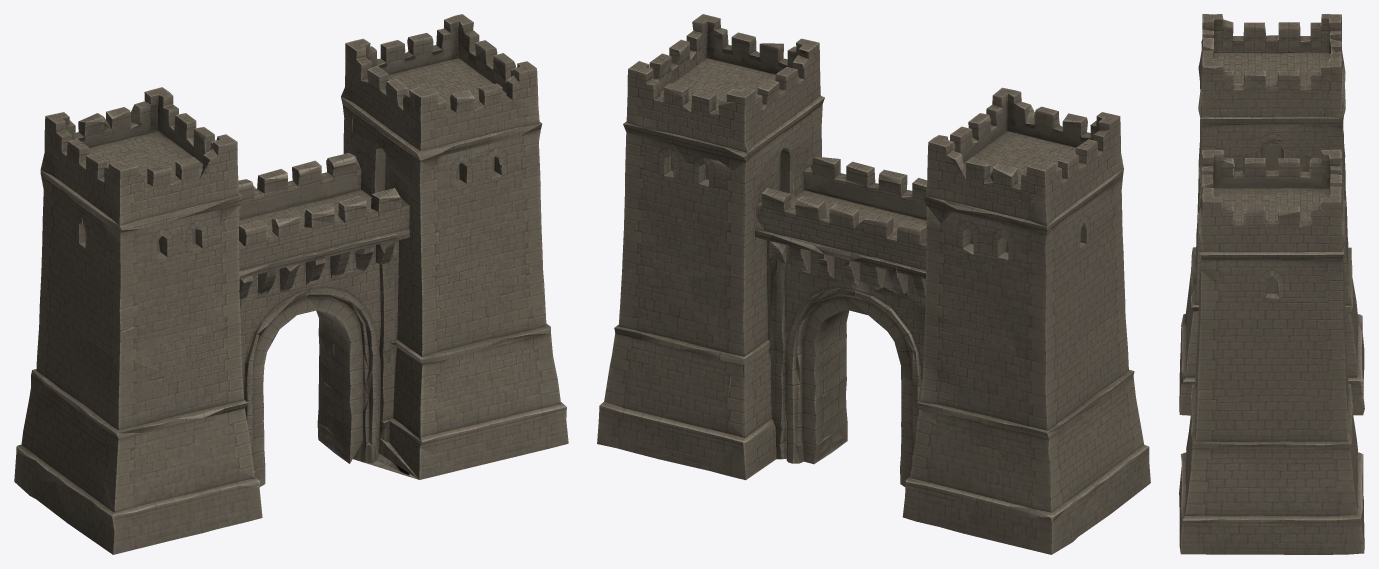
Rendered from main_gate.glb.
3 renders of one model, left to right at view 1: azimuth 30°, elevation 25°; view 2: azimuth 150°, elevation 25°; view 3: azimuth 270°, elevation 25°, orthographic. The views are drawn at different scales.
Parts seen in each view (by area): view 1: output_unwrapped; view 2: output_unwrapped; view 3: output_unwrapped.
Part boxes in pixels (x1,y1,x2,y2): output_unwrapped: (14,14,568,554); output_unwrapped: (597,14,1150,554); output_unwrapped: (1179,14,1364,554).
Size of the model in its own units: 1.9 by 1.47 by 0.7184.
1 material, 1 textured.
